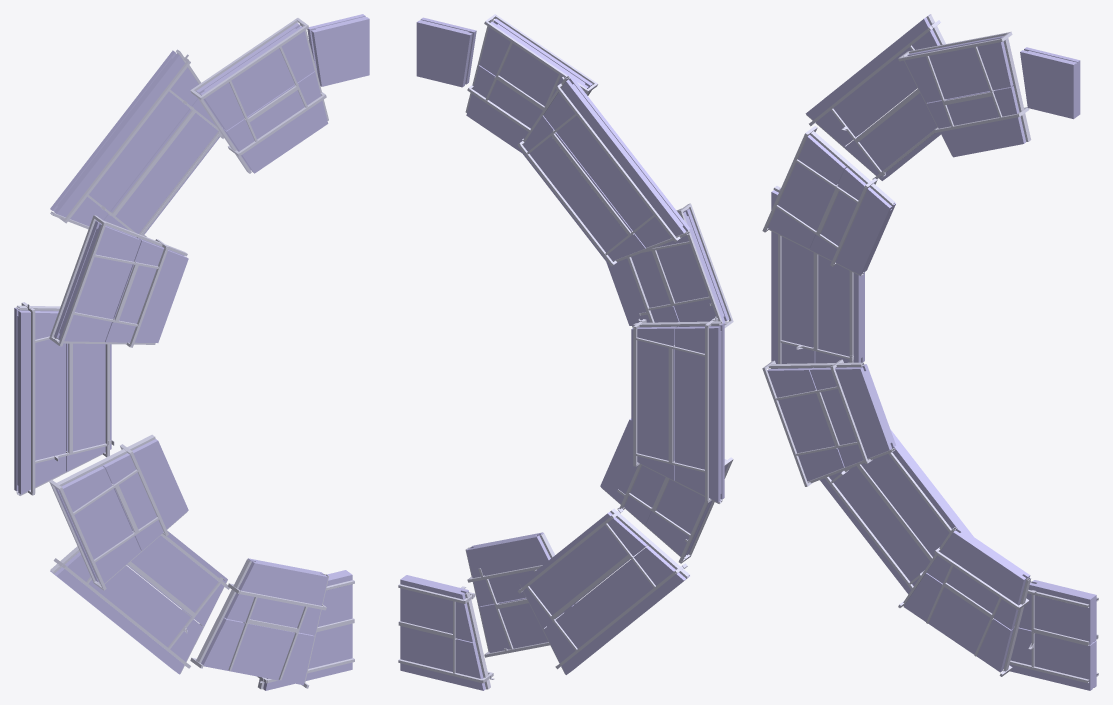
Rendered from Extra-Wheel-SideC-cut2.glb.
The picture shows the model from 3 angles, left to right: view 1: azimuth 30°, elevation 25°; view 2: azimuth 150°, elevation 25°; view 3: azimuth 330°, elevation 25°; orthographic projection. The views are drawn at different scales.
Parts seen in each view (by area): view 1: null; view 2: null; view 3: null.
Part boxes in pixels (box(x1,y1,x2,y2)): null: box(14, 14, 369, 690); null: box(398, 14, 733, 690); null: box(762, 14, 1098, 690).
Size of the model in its own units: 8.97 by 17.54 by 1.54.
